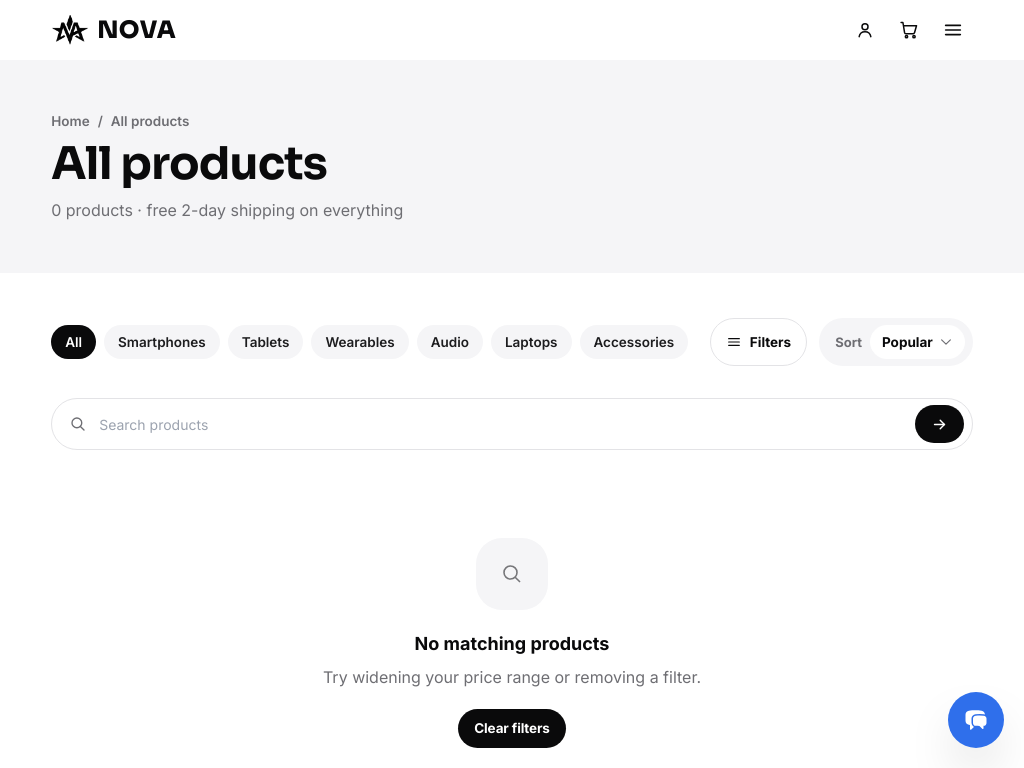
Test: NOVA storefront › changes category from the catalog toolbar
The width and height of the screenshot is (1024, 768).
Click the button "Audio" at {"x": 450, "y": 342}, box [417,325,483,359]
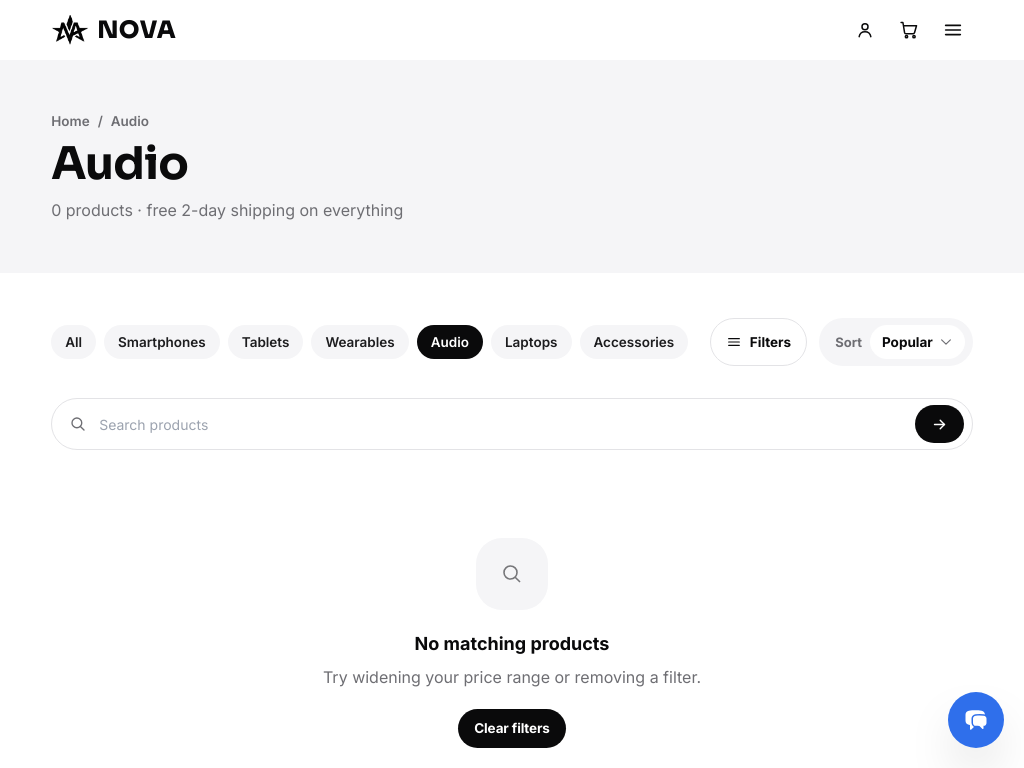
Now the heading "Audio" is shown, box [51,135,188,192]
